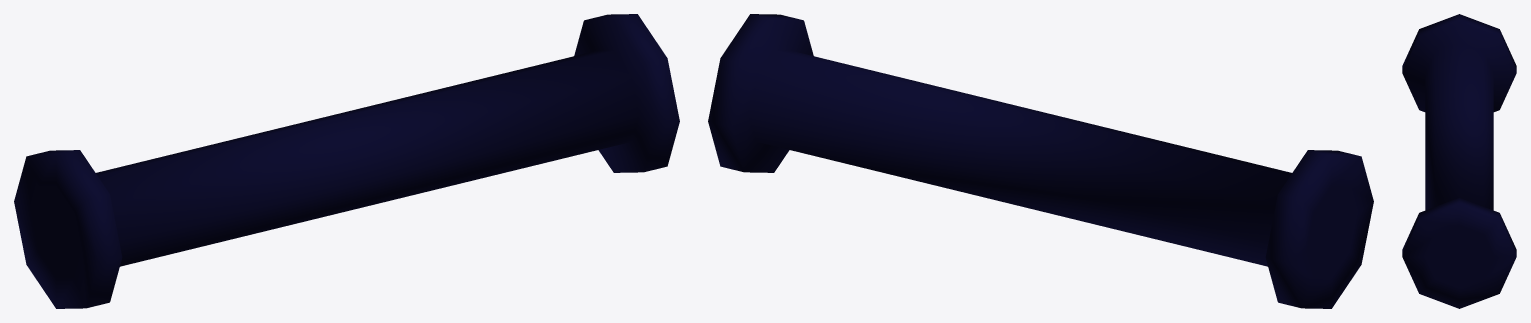
File: Pipe.fbx
3 renders of one model, left to right at view 1: azimuth 30°, elevation 25°; view 2: azimuth 150°, elevation 25°; view 3: azimuth 270°, elevation 25°, orthographic. The views are drawn at different scales.
Visible parts, largest first — view 1: Cylinder.007; view 2: Cylinder.007; view 3: Cylinder.007.
Part boxes in pixels (<box>): Cylinder.007: <box>14,14,679,308</box>; Cylinder.007: <box>708,14,1373,308</box>; Cylinder.007: <box>1402,14,1516,308</box>.
Bounding box in the file's own units: 261 × 65.73 × 65.73.
